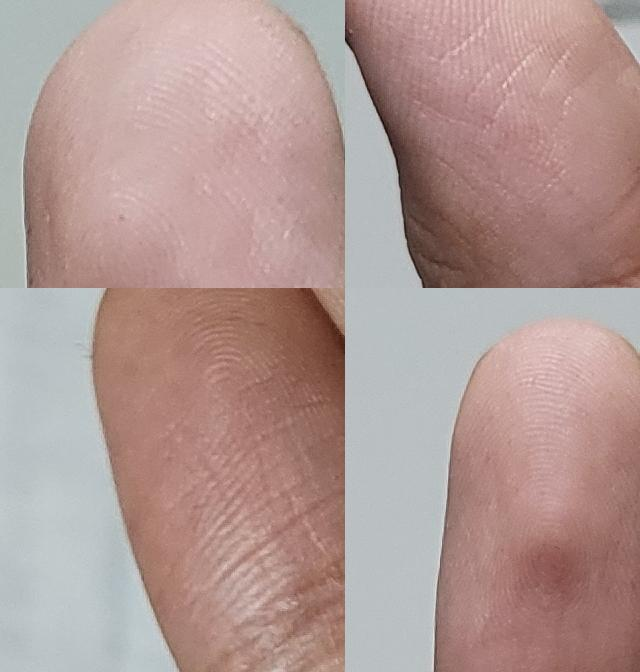Fingerprints: (92, 288, 345, 672), (23, 0, 345, 288), (345, 0, 640, 288), (435, 315, 640, 672)
